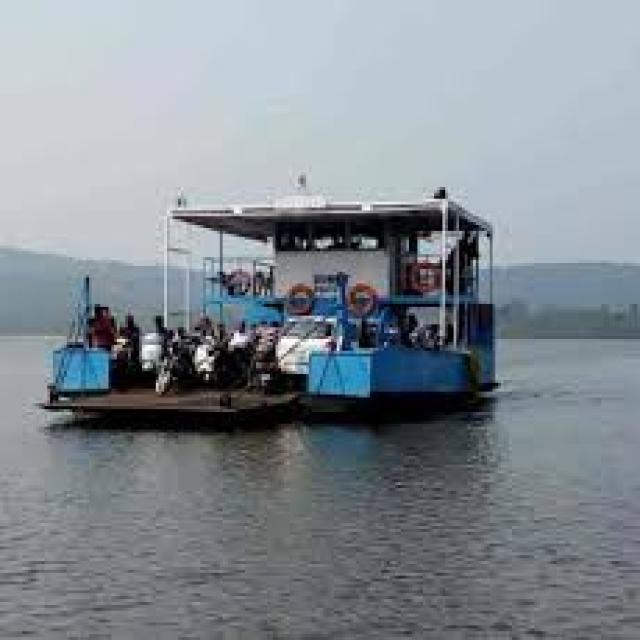navalvessels: (51, 164, 507, 430)
